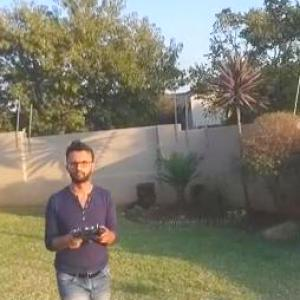follow: (40, 136, 122, 299)
